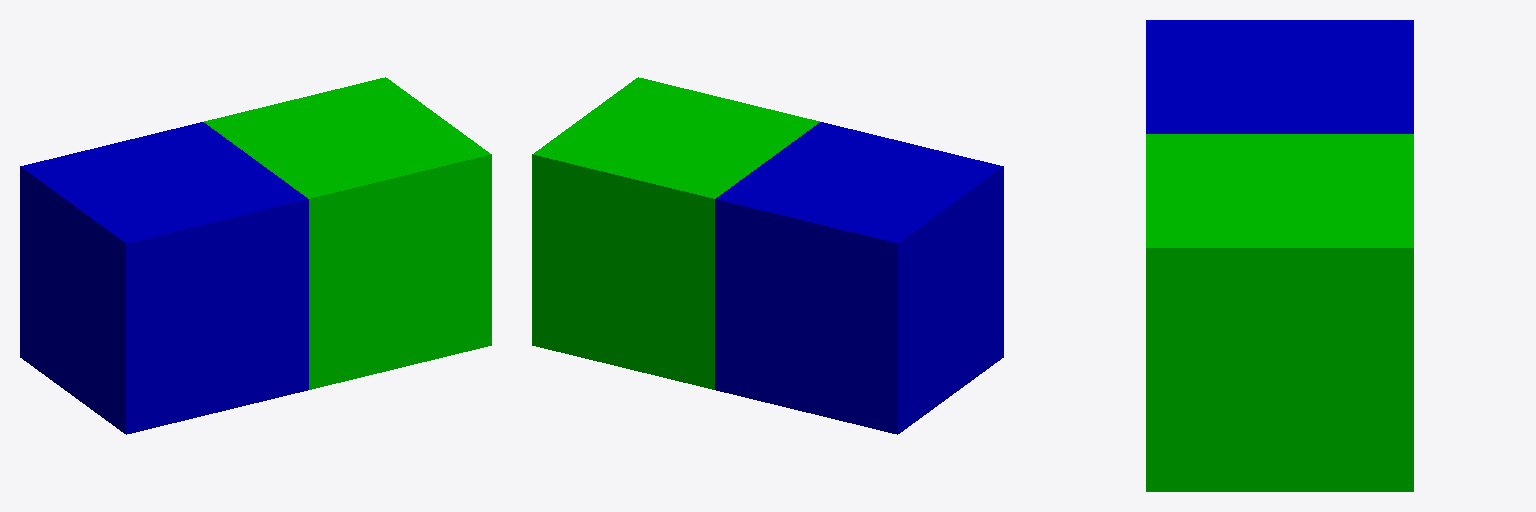
The robot description file, URDF, robot "A_vs_B":
<?xml version="1.0"?>
<robot name="A_vs_B">
  <material name="blue">
    <color rgba="0 0 0.8 .5"/>
  </material>
  <material name="green">
    <color rgba="0 0.8 0 .5"/>
  </material>
  <link name="A">
    <visual>
      <geometry>
        <box size="1 1 1"/>
      </geometry>
      <origin rpy="0.0 0 0" xyz="-0.5 0 0"/>
      <material name="blue"/>
    </visual>
  </link>
  <link name="B">
    <visual>
      <geometry>
        <box size="1 1 1"/>
      </geometry>
      <origin rpy="0 0 0" xyz="0.5 0 0"/>
      <material name="green"/>
    </visual>
  </link>
  <joint name="joint1" type="revolute">
    <axis xyz="0 0 1"/>
    <limit effort="1" lower="-1" upper="1" velocity="1"/>
    <origin rpy="0 0 0" xyz="0 0 0"/>
    <parent link="A"/>
    <child link="B"/>
  </joint>
</robot>

--- Facts derived from the render (not from the file) ---
Views: 3 orthographic renders of the robot side by side, from view 1: azimuth 30°, elevation 25°; view 2: azimuth 150°, elevation 25°; view 3: azimuth 270°, elevation 25°.
Model A_vs_B with 2 links and 1 joints (1 revolute), rooted at A, posed all joints at 0.
Visible links, largest first — view 1: A, B; view 2: A, B; view 3: B, A.
Link boxes in pixels (box(x1,y1,x2,y2)): A: box(20, 122, 308, 434); B: box(204, 77, 491, 389); A: box(715, 122, 1003, 434); B: box(532, 77, 819, 389); B: box(1146, 134, 1413, 491); A: box(1146, 20, 1413, 133).
Bounding box of the posed robot: 2 × 1 × 1 m (x, y, z).
Geometry: primitives only (box / cylinder / sphere), no mesh files.